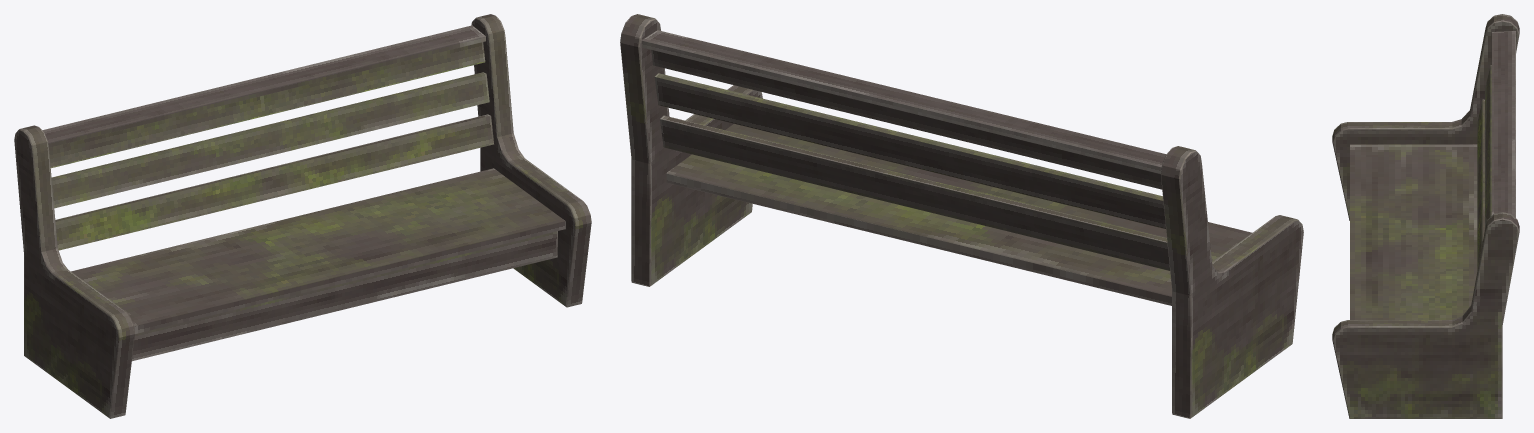
Rendered from pew.glb.
The picture shows the model from 3 angles, left to right: view 1: azimuth 30°, elevation 25°; view 2: azimuth 150°, elevation 25°; view 3: azimuth 270°, elevation 25°; orthographic projection. The views are drawn at different scales.
Visible parts, largest first — view 1: lo_Prop_ChurchBench_A_LOD1; view 2: lo_Prop_ChurchBench_A_LOD1; view 3: lo_Prop_ChurchBench_A_LOD1.
Boxes of the visible parts, x1,y1,x2,y2 form: lo_Prop_ChurchBench_A_LOD1: [14, 14, 591, 418]; lo_Prop_ChurchBench_A_LOD1: [620, 14, 1303, 418]; lo_Prop_ChurchBench_A_LOD1: [1332, 14, 1519, 418].
Bounding box in the file's own units: 2.85 × 1.3 × 1.1.
Materials: 1 (1 with a texture image).
